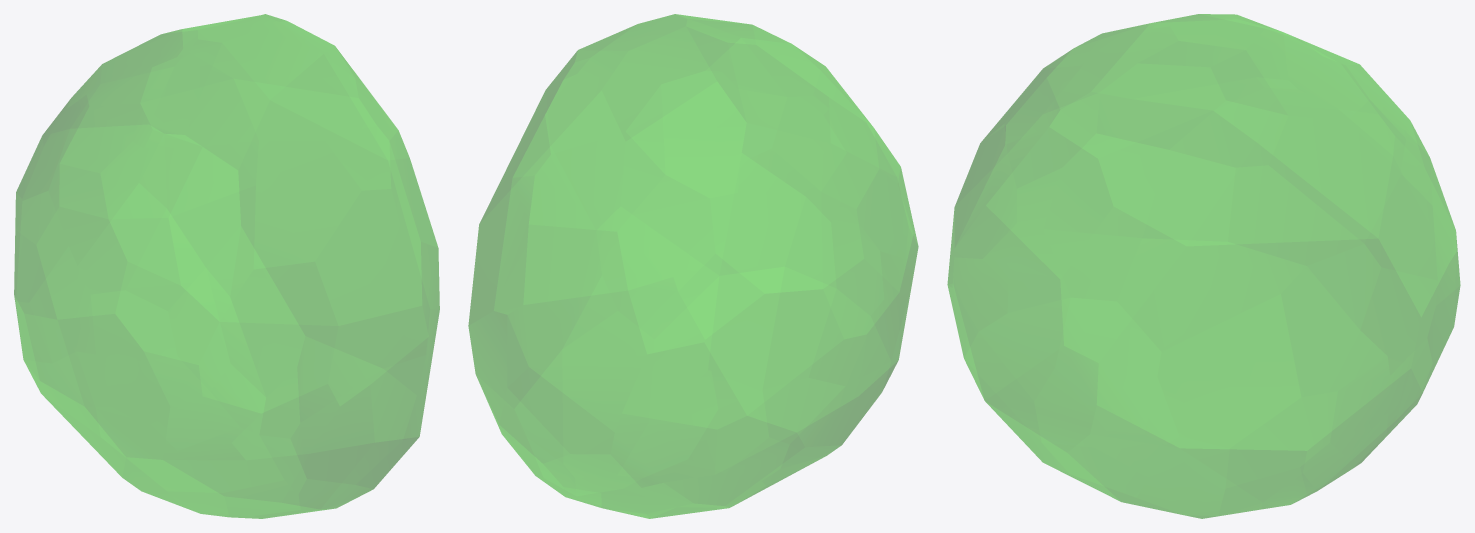
The model's file is LF_HAA_com_constraints.dae.
The picture shows the model from 3 angles, left to right: view 1: azimuth 30°, elevation 25°; view 2: azimuth 150°, elevation 25°; view 3: azimuth 270°, elevation 25°; orthographic projection.
Parts seen in each view (by area): view 1: foo_005; view 2: foo_005; view 3: foo_005.
Part boxes in pixels (x1,y1,x2,y2): foo_005: [14, 14, 439, 518]; foo_005: [468, 14, 918, 518]; foo_005: [947, 14, 1460, 518].
Bounding box in the file's own units: 1.5 × 1.94 × 1.89.
